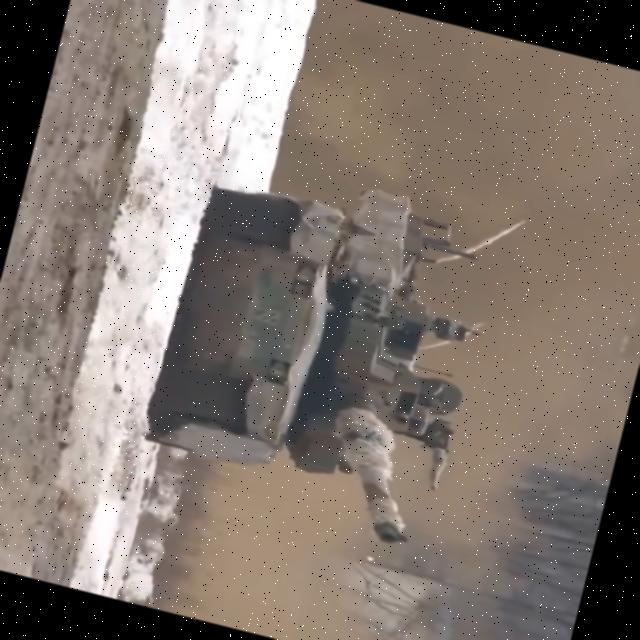korea tank: (126, 142, 512, 555)
